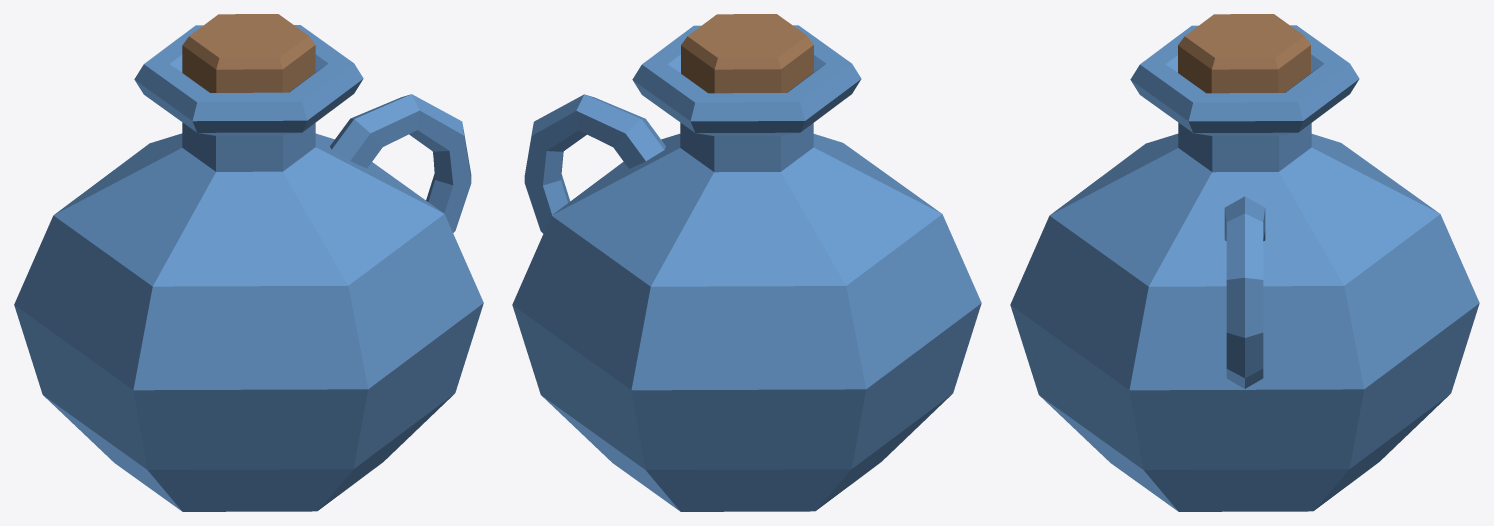
The model's file is Blue_Potion_9(Handle).fbx.
The picture shows the model from 3 angles, left to right: view 1: azimuth 30°, elevation 25°; view 2: azimuth 150°, elevation 25°; view 3: azimuth 270°, elevation 25°; orthographic projection.
Parts seen in each view (by area): view 1: Blue_Potion_9(Handle); view 2: Blue_Potion_9(Handle); view 3: Blue_Potion_9(Handle).
Part boxes in pixels (<box>): Blue_Potion_9(Handle): <box>14,14,483,511</box>; Blue_Potion_9(Handle): <box>512,14,981,511</box>; Blue_Potion_9(Handle): <box>1010,14,1479,511</box>.
Size of the model in its own units: 20.35 by 20.77 by 20.73.
